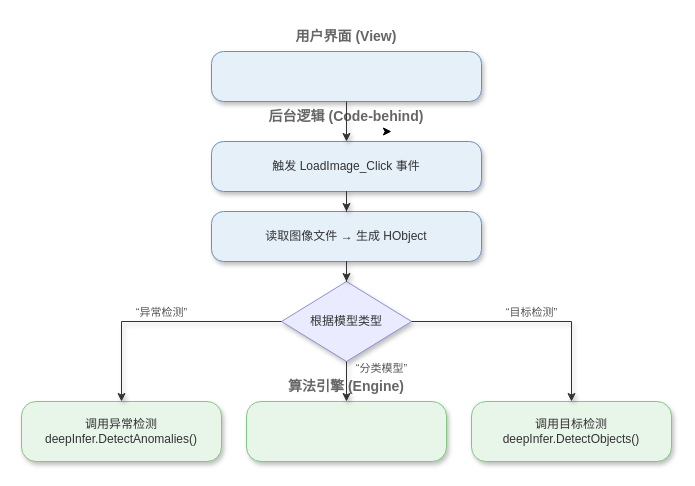
Image size: 695x486. Some labels were removed from this diagram. Here are the shapes that lost their labels. From the top down, the centre of each, then its label:
At point (347, 77): "用户点击“加载图像”按钮".
At point (347, 432): "调用分类模型 deepInfer.ClassifyImage()".
